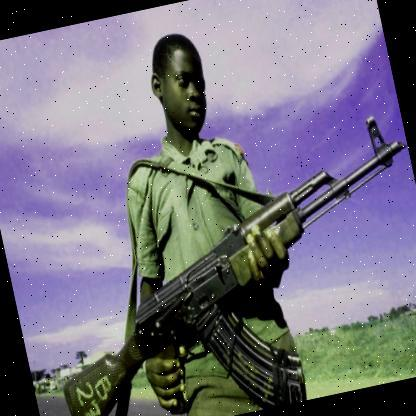rifle: (27, 129, 416, 416)
